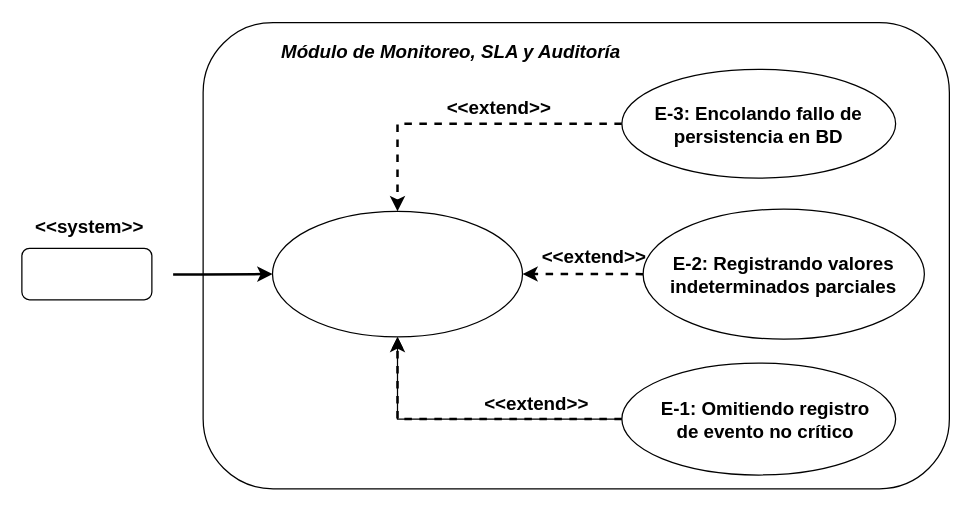
The diagram is 971 pixels wide and 510 high, and some of its shapes have lost their labels. The shapes that lost their labels are listed below. From the top down, each one's centre as x and y in pixels, then its label:
[86,273]: SISTEMA
[396,273]: CU-19: Registrando transacciones de forma inmutable
